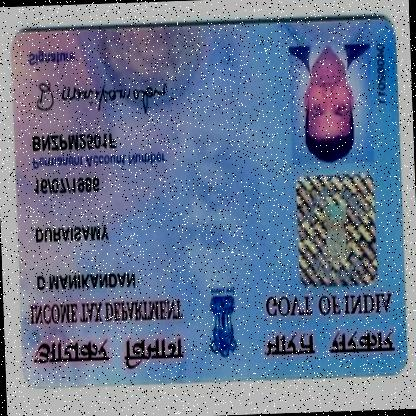pan_card: (2, 17, 416, 415)
